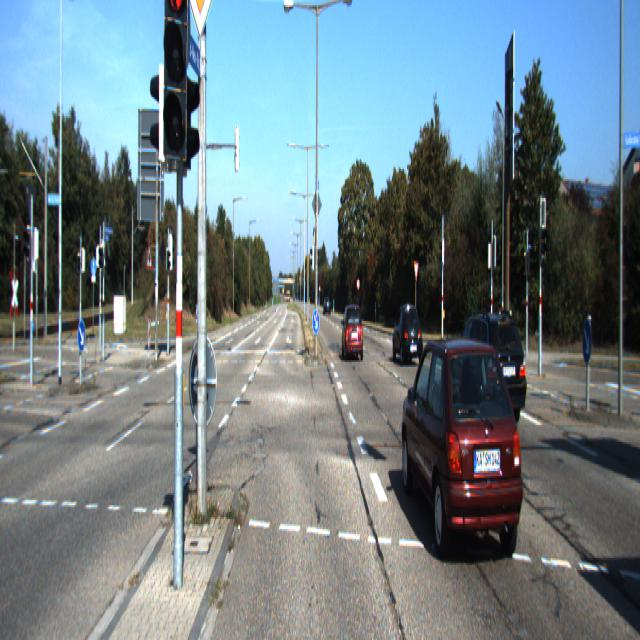Car: (400, 327, 526, 579), (446, 308, 530, 431), (392, 303, 423, 368), (342, 304, 364, 362)
